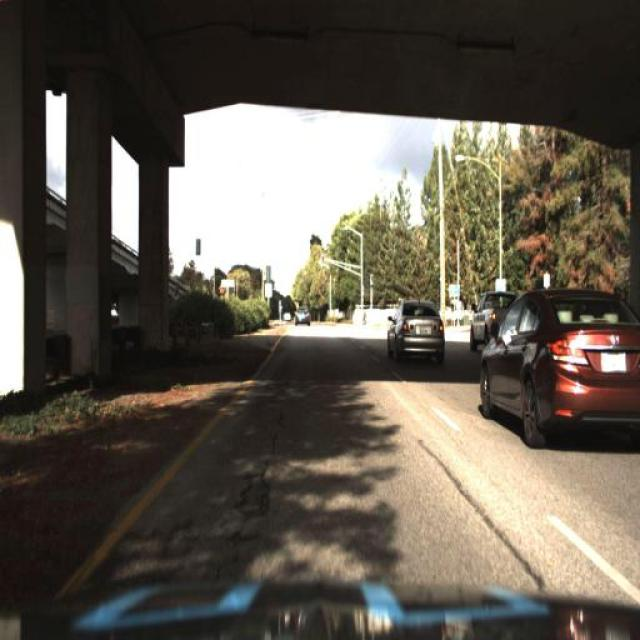car: (481, 278, 638, 488), (383, 291, 448, 368), (286, 305, 308, 330)
